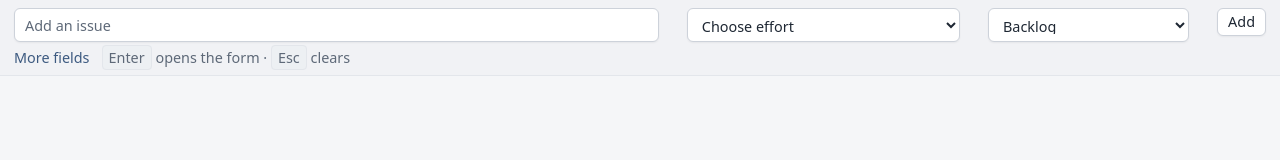
Test: QuickAddRow refusal › words a missing required select as Choose, and focuses it when Title is fine
This screenshot has width=1280, height=160.
In the field named "Title": x=336, y=25 [14, 8, 659, 42], type "Something"
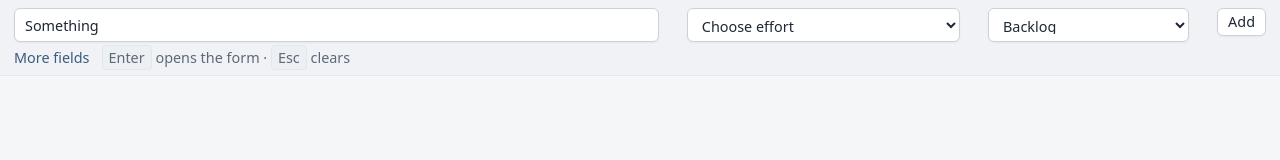
Click the button with test id "qa-add": x=1242, y=22 [1217, 8, 1266, 36]
Wait 20 ms
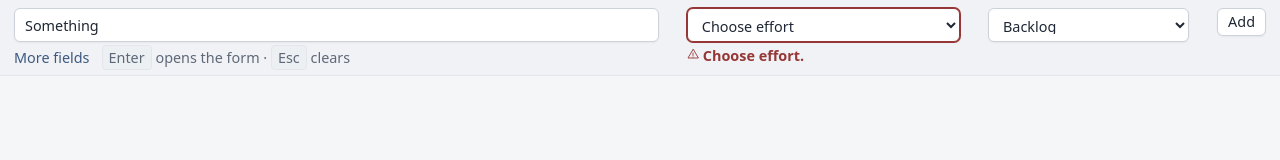
Check: the text "Choose effort." is shown, box [687, 46, 804, 65]
